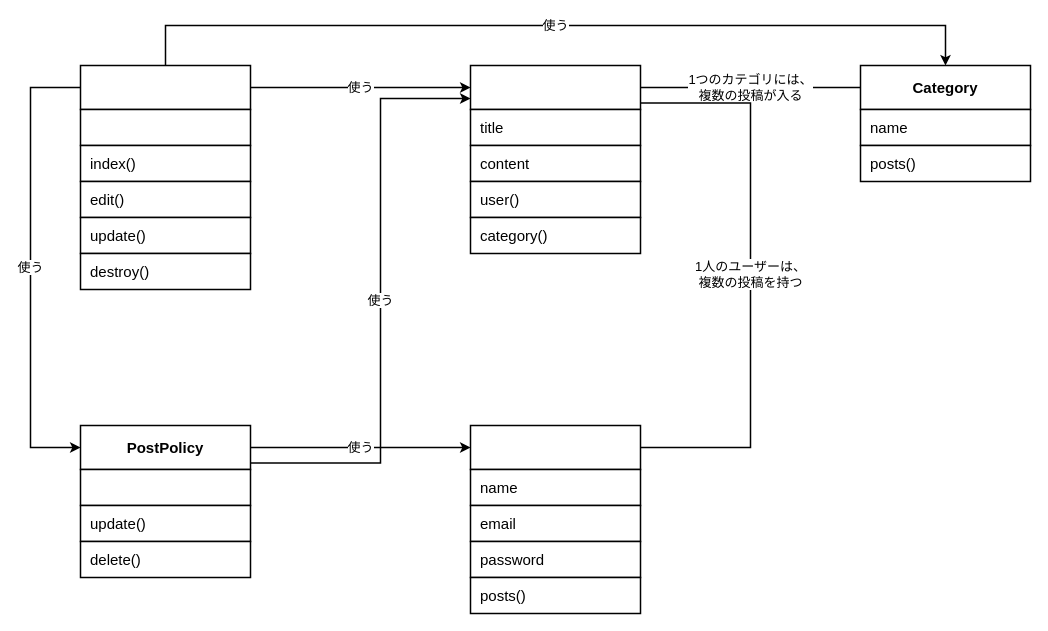
Image size: 1048x631. Some labels were removed from this diagram. Each missing label, with the box of its shape:
Post: (469, 64, 641, 110)
PostController: (79, 64, 251, 110)
User: (469, 424, 641, 470)
